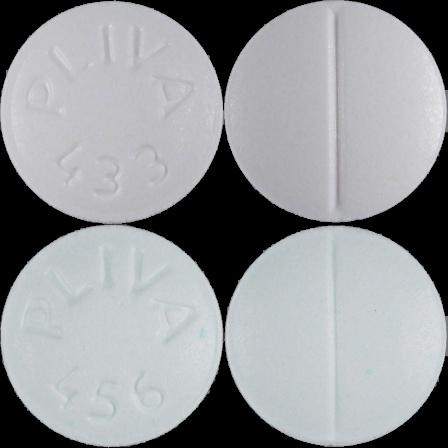50436-4715: (0, 0, 224, 224)
